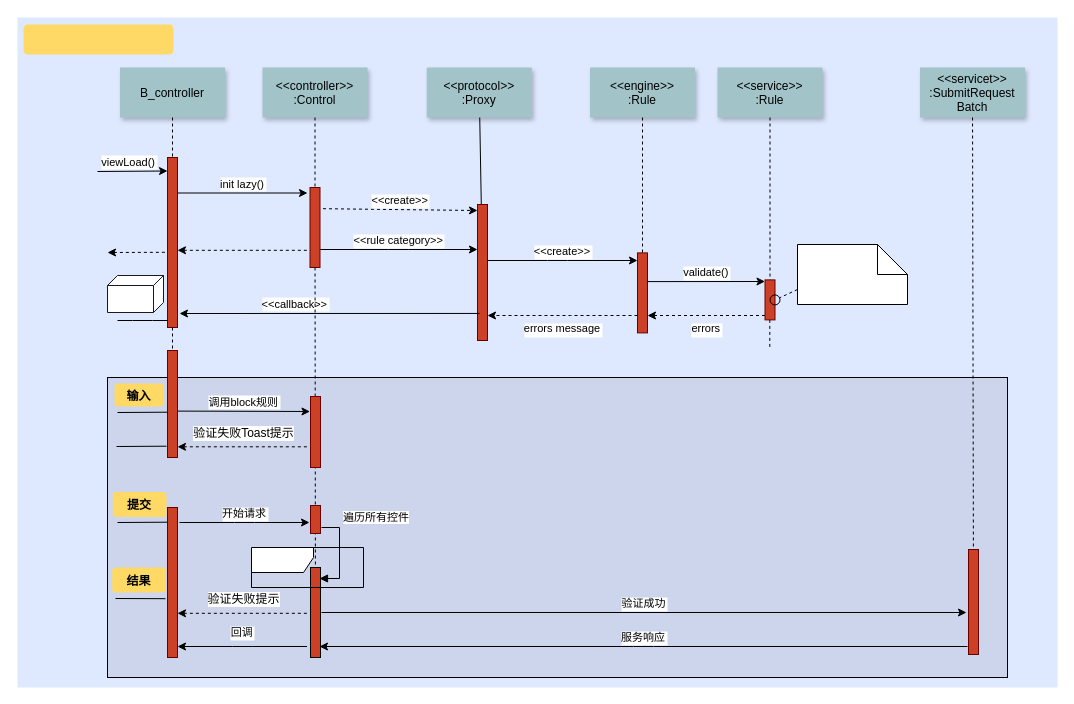
The diagram is 1074 pixels wide and 704 high, and some of its shapes have lost their labels. The centre of each missing label's shape, as x and y in pixels:
- validation rule - initialize: point 852,274
B_验证规则: point 98,39
Block: point 135,293
seq loop: point 307,567
